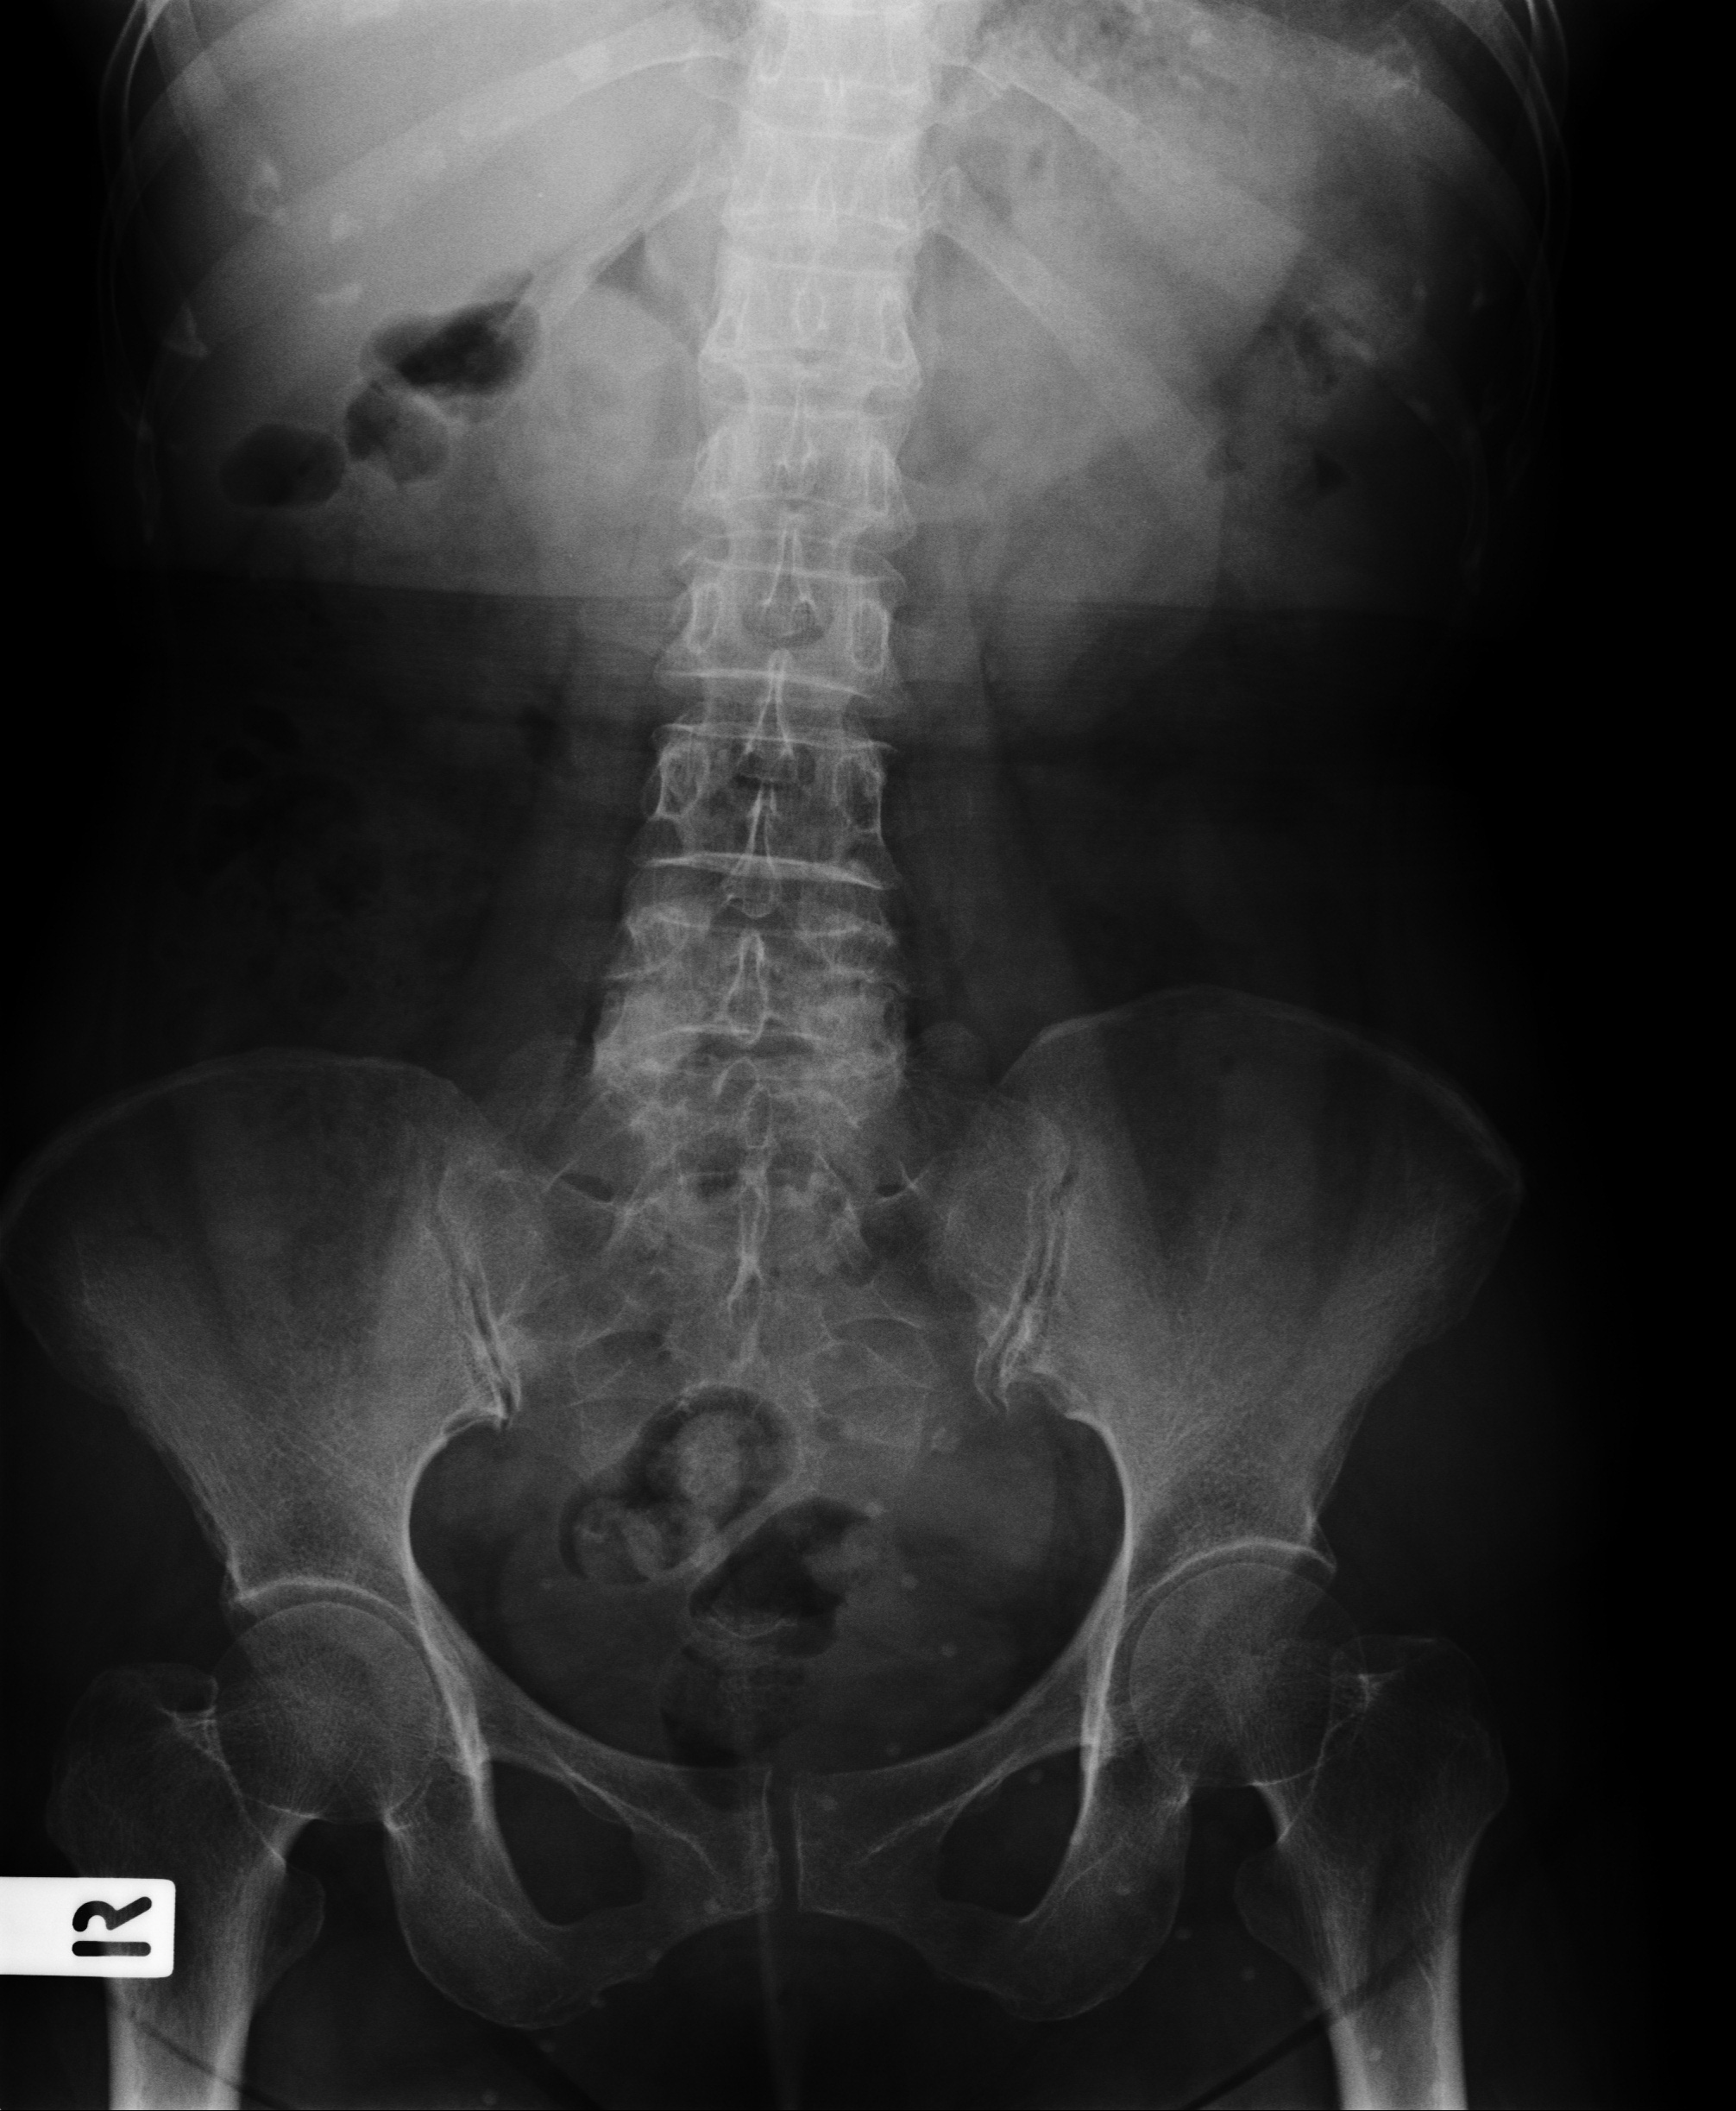lumbar scoliosis: (587, 25, 922, 1241)
